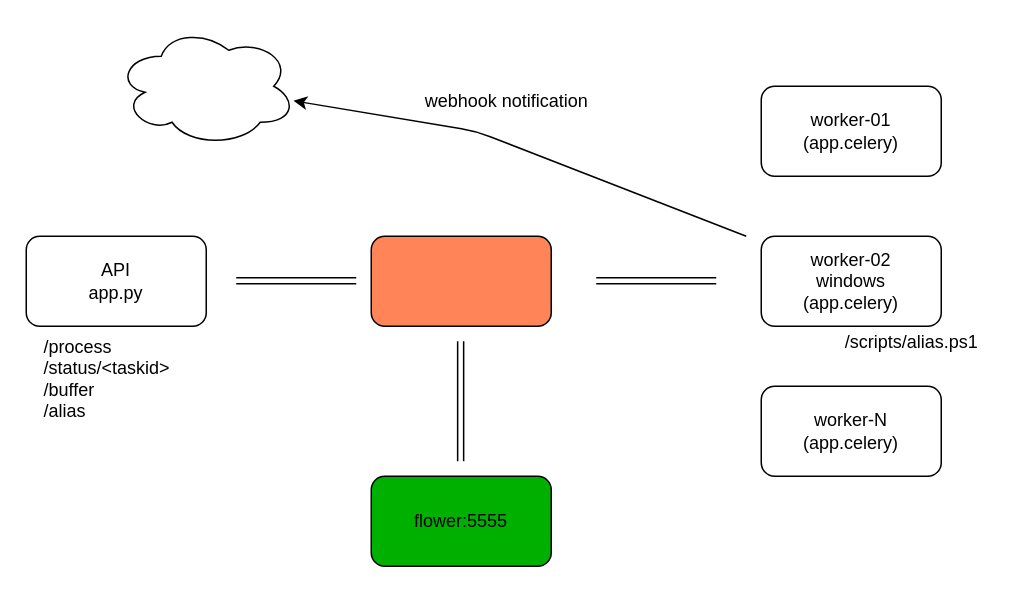
Some shapes in this 1028 by 593 pixel diagram are drawn without their labels. Here are the shapes that lost their labels. From the top down, the box of each, then its label:
(115, 25, 296, 146): MS Teams
(370, 235, 551, 326): broker:5672,8080 (rabbitMQ)
